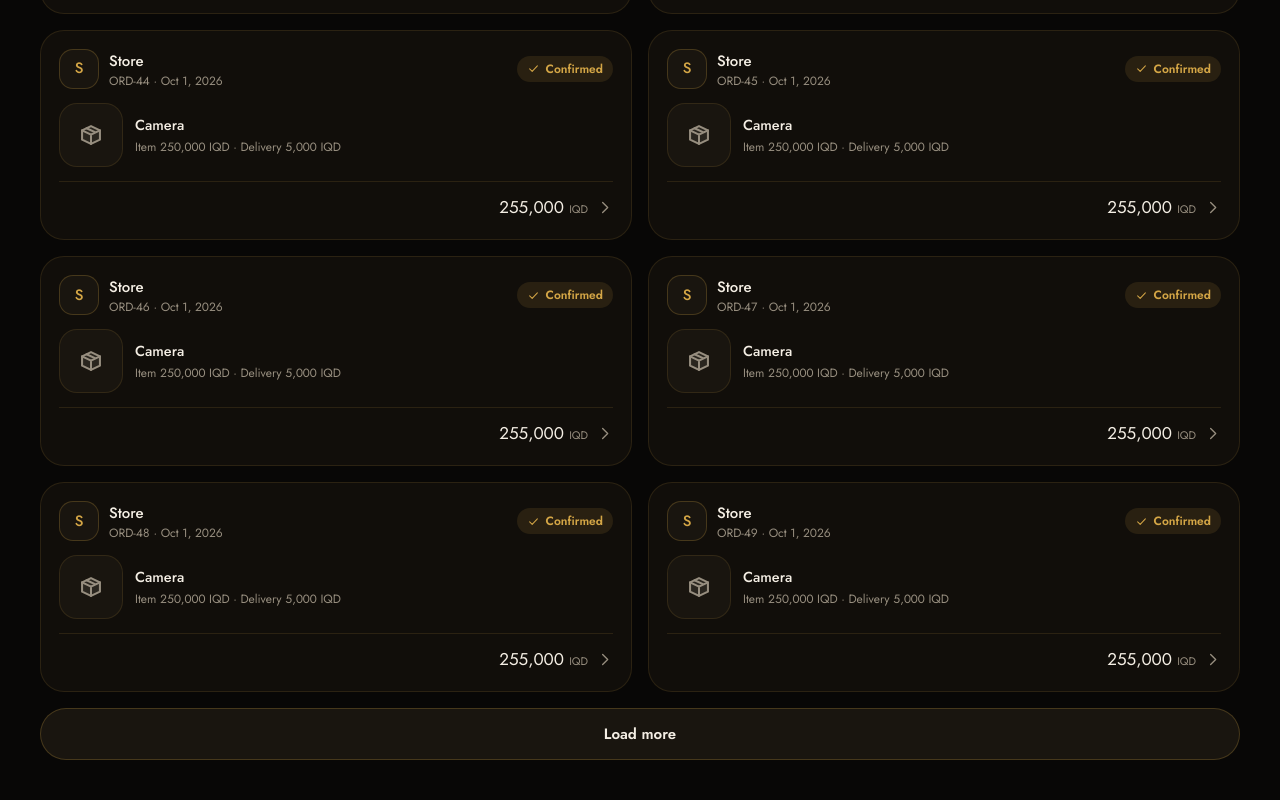
Test: orders and sales beyond the first 50 › loads the next page of buyer orders on request, and stops at a short page
(page scrolled)
Click the button with test id "orders-load-more". click: (640, 734)
box: [40, 708, 1240, 760]
(page scrolled)
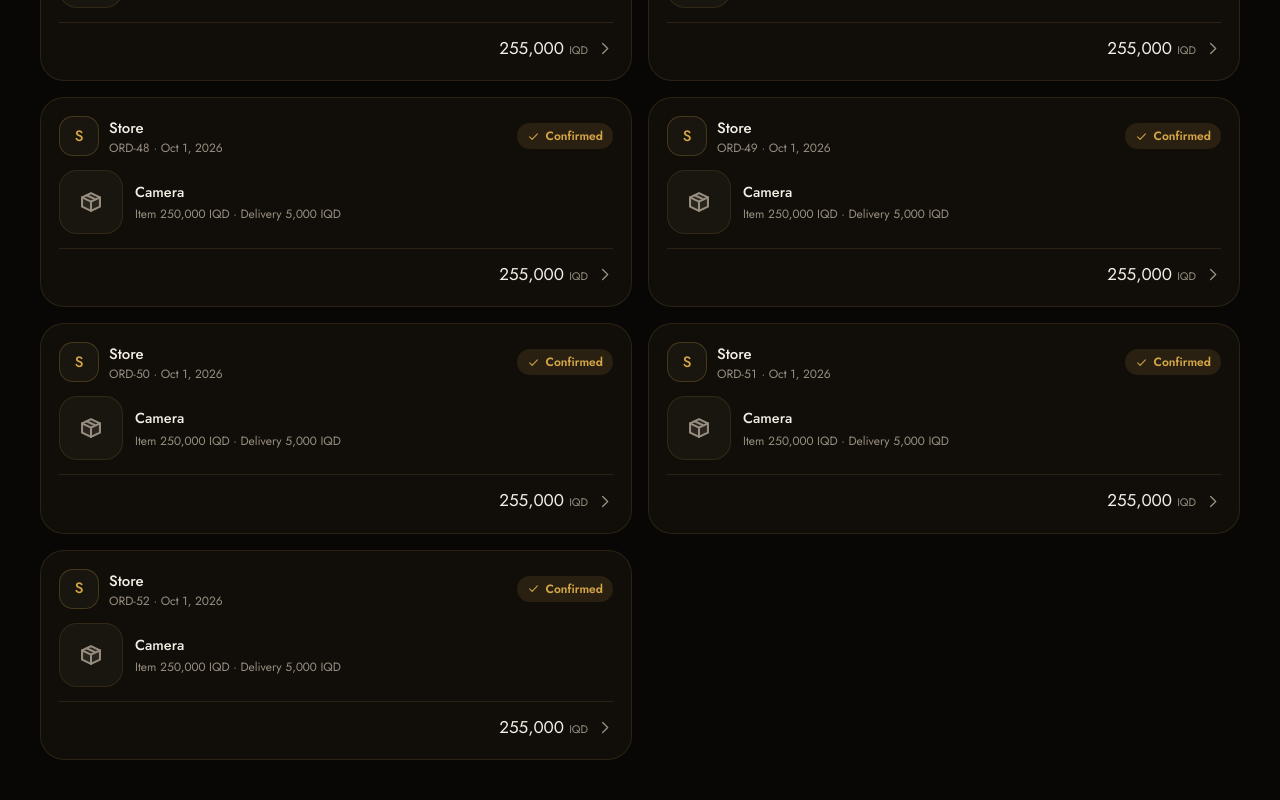
Expected: the text "ORD-52" is shown, [109, 593, 150, 609]
Expected: the button with test id "orders-load-more" is gone
